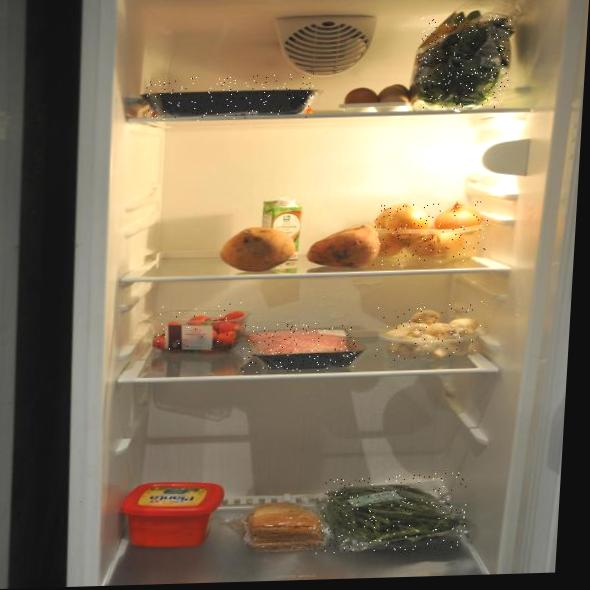eggs: (337, 72, 418, 121)
green beans: (316, 472, 468, 554)
meat: (143, 74, 315, 123), (241, 322, 358, 373)
mushroom: (375, 300, 482, 361)
onion: (373, 201, 489, 266)
spinach: (414, 15, 512, 111)
tomatoes: (156, 302, 242, 351)
